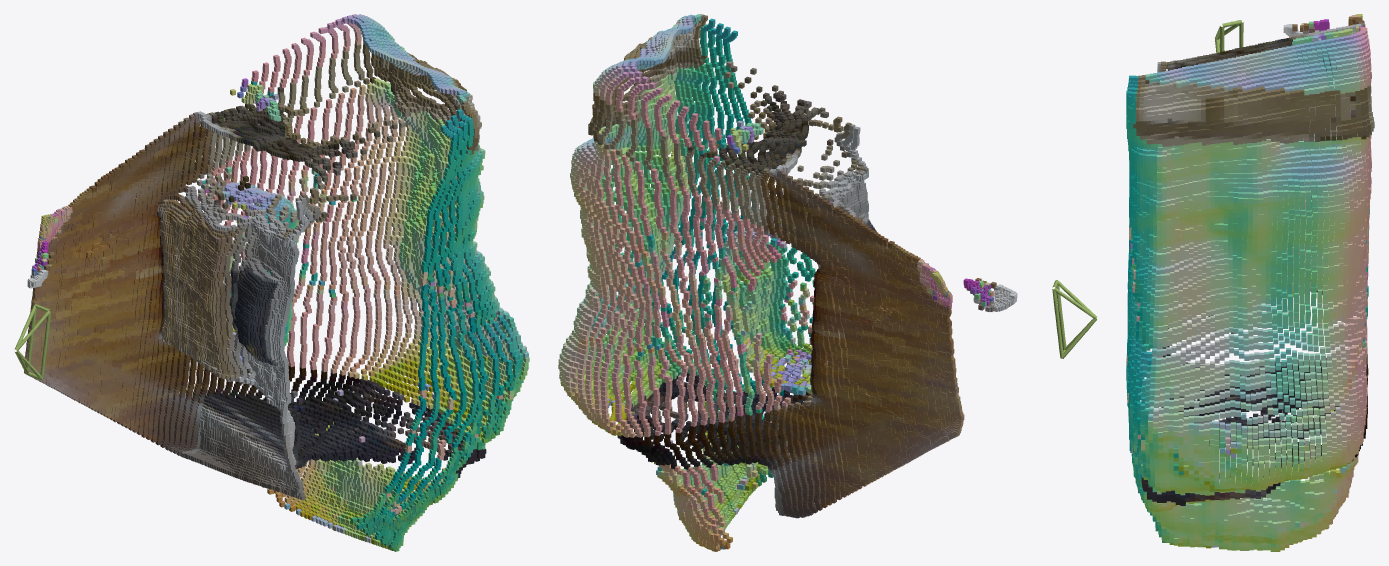
The model's file is pred_4-compressed.glb.
3 views of the same model, side by side, from view 1: azimuth 30°, elevation 25°; view 2: azimuth 150°, elevation 25°; view 3: azimuth 270°, elevation 25° (orthographic). The views are drawn at different scales.
Bounding box in the file's own units: 6.16 × 5.77 × 2.41.
